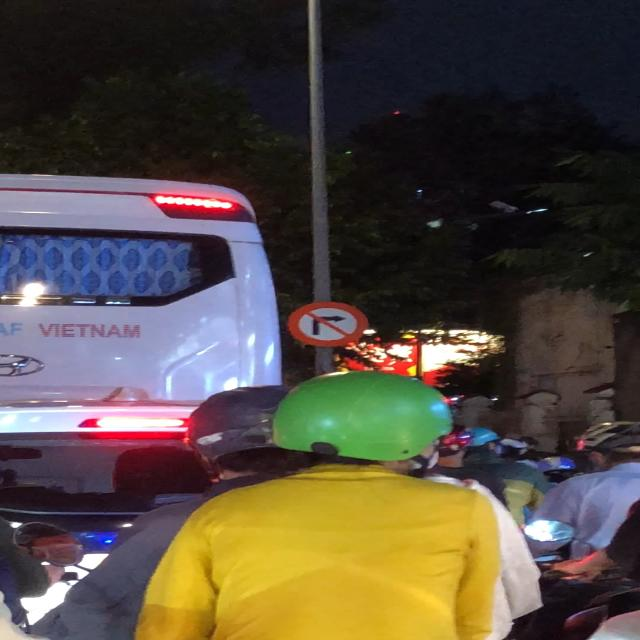Bien bao cam re phai: (283, 298, 374, 348)
